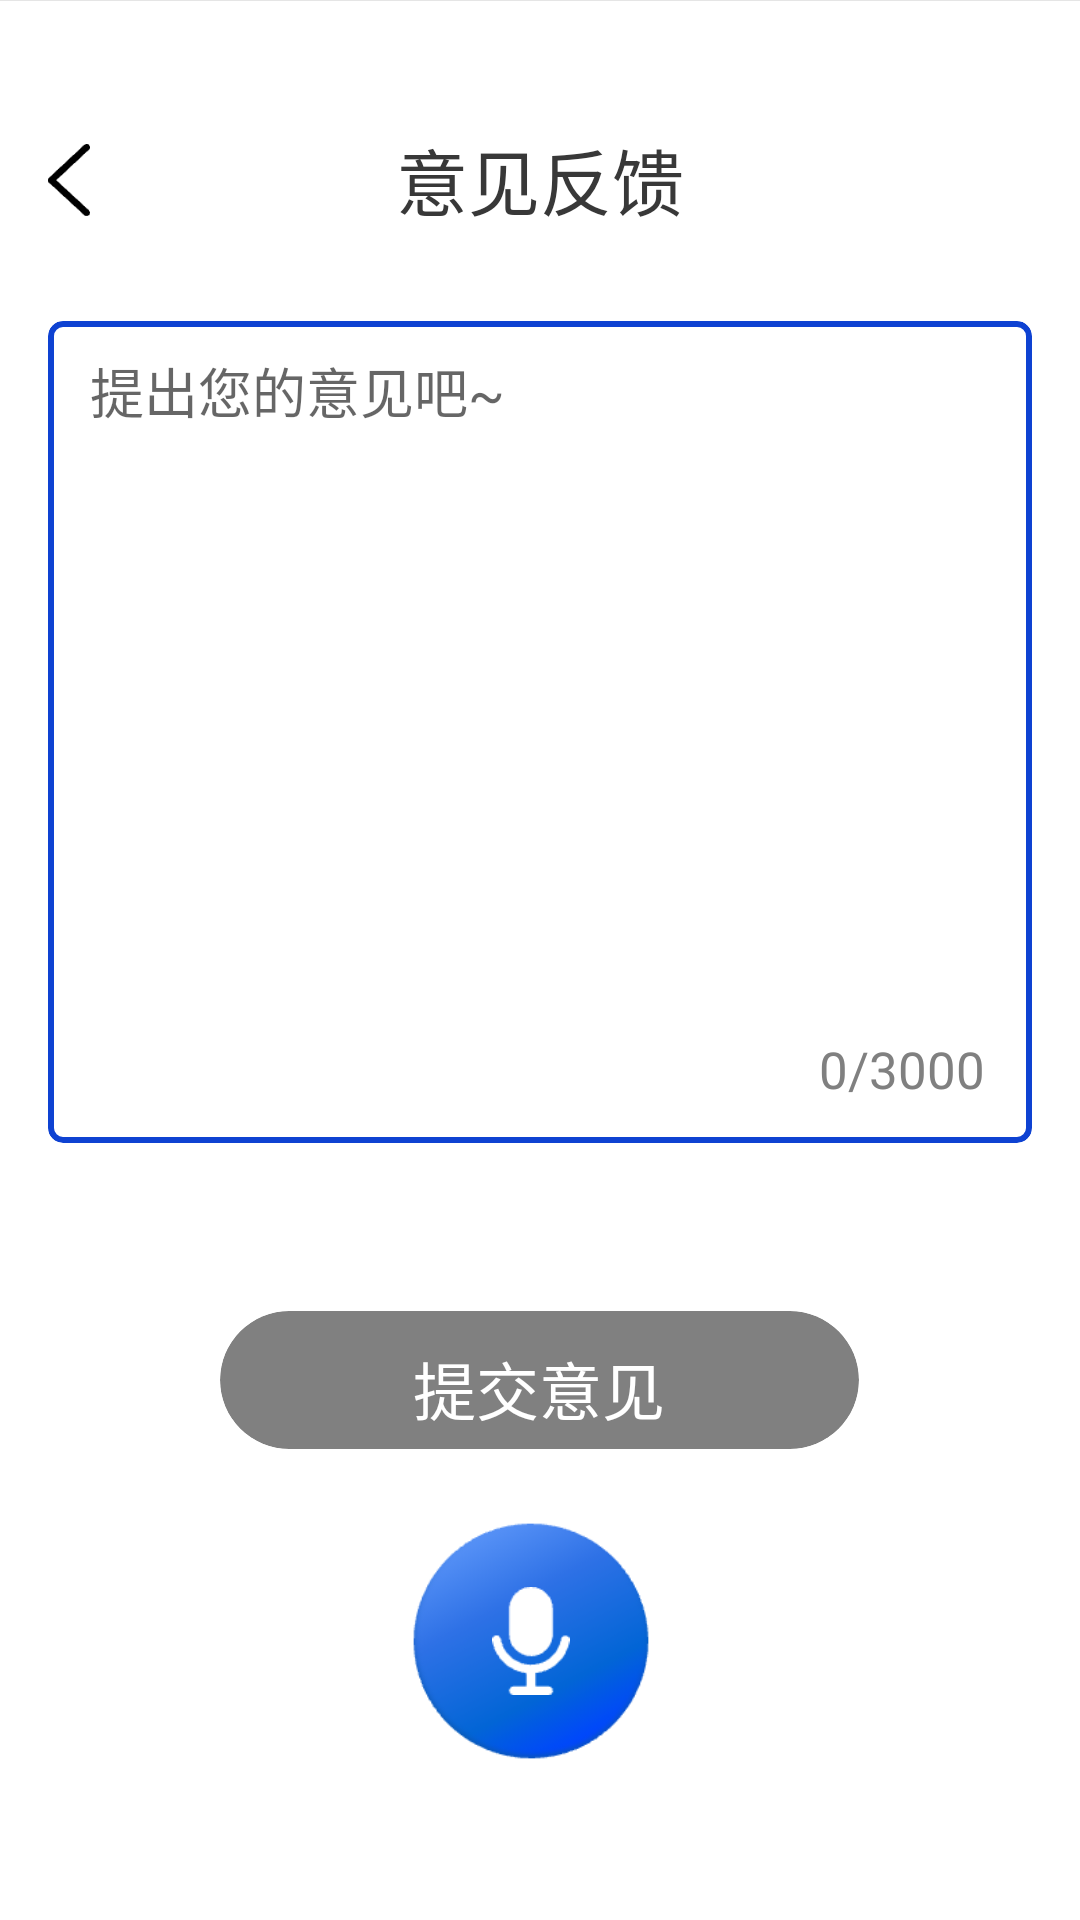

Screen size 1080*1920. Icon name, then its center in pixels as [x,y]:
back: [69,180]
